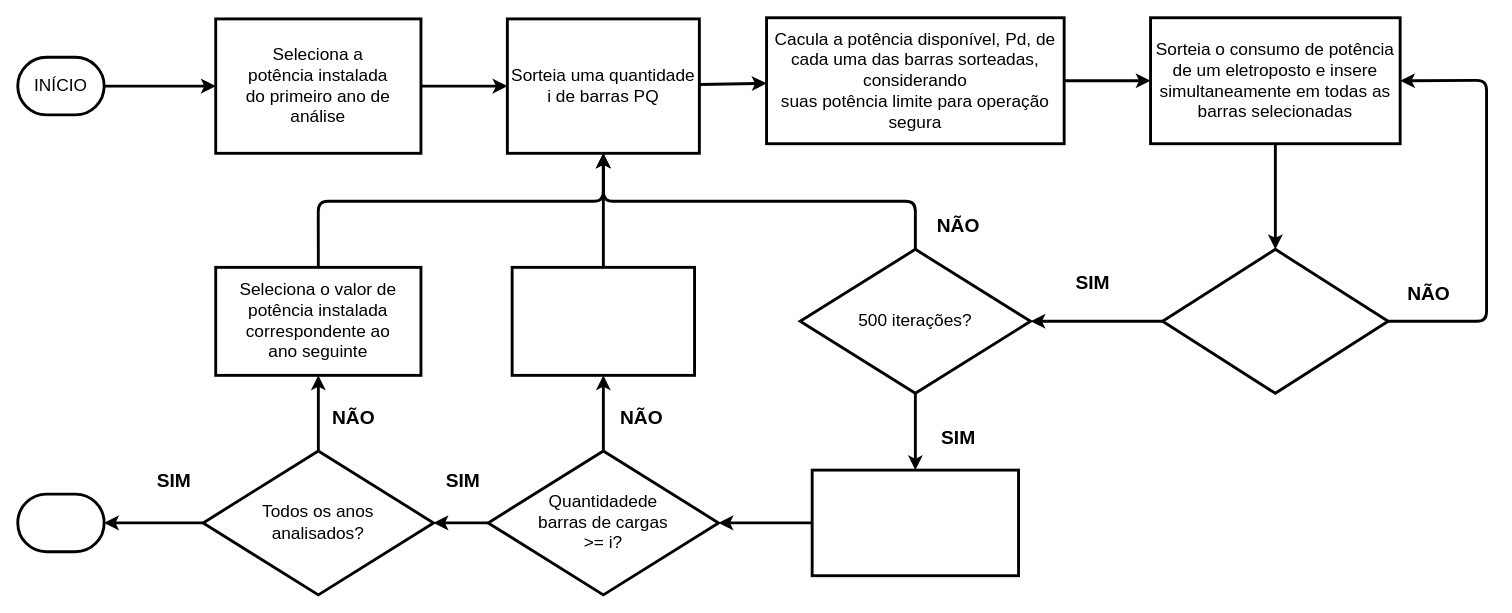
This 1512x613 diagram has some shape labels left out. Each missing label, with the box of its shape:
Dados armazenados de acordo com o ano e o número de barras sorteadas i: (810, 468, 1020, 577)
FIM: (16, 492, 105, 553)
Incrementa i em um: (510, 265, 696, 376)
Uma das barras tem Pd <= 0?: (1161, 247, 1389, 394)
